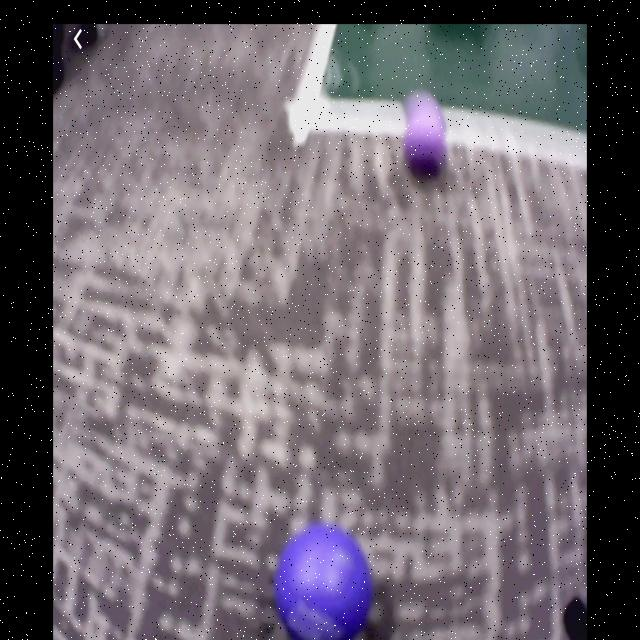ball: (278, 525, 374, 640), (403, 106, 449, 179)
